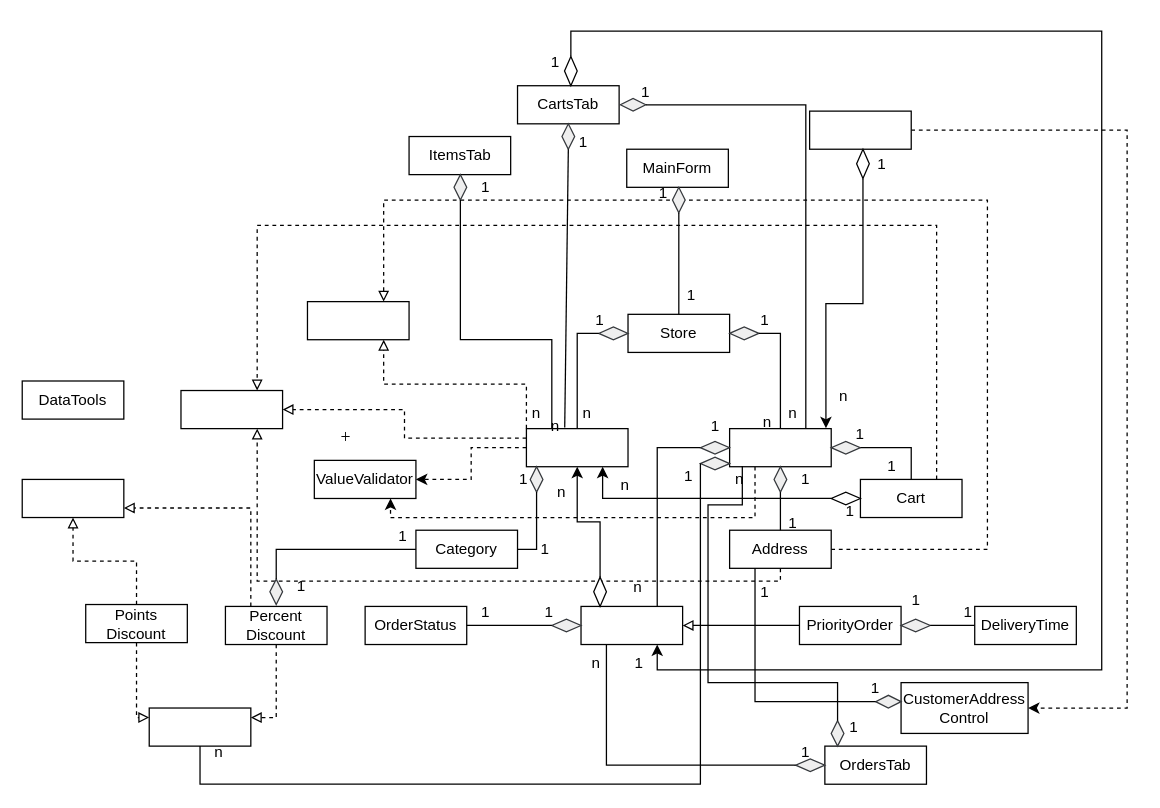
The diagram is 1160 pixels wide and 808 high, and some of its shapes have lost their labels. The shapes that lost their labels are listed below. From the top down, each one's centre as x and y in pixels, then its label:
(x=859, y=129): CustomersTab
(x=357, y=320): IEquatable
(x=231, y=409): ICloneable
(x=576, y=447): Item
(x=779, y=447): Customer
(x=72, y=498): IComparable
(x=631, y=625): Order
(x=199, y=726): IDiscount
